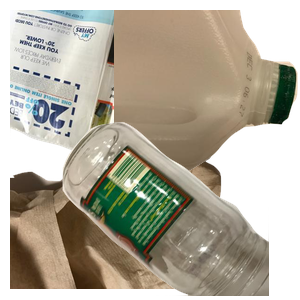glass: (60, 120, 300, 300)
paper: (10, 10, 215, 186)
plastic: (114, 10, 300, 179)
trash: (10, 120, 229, 300)
